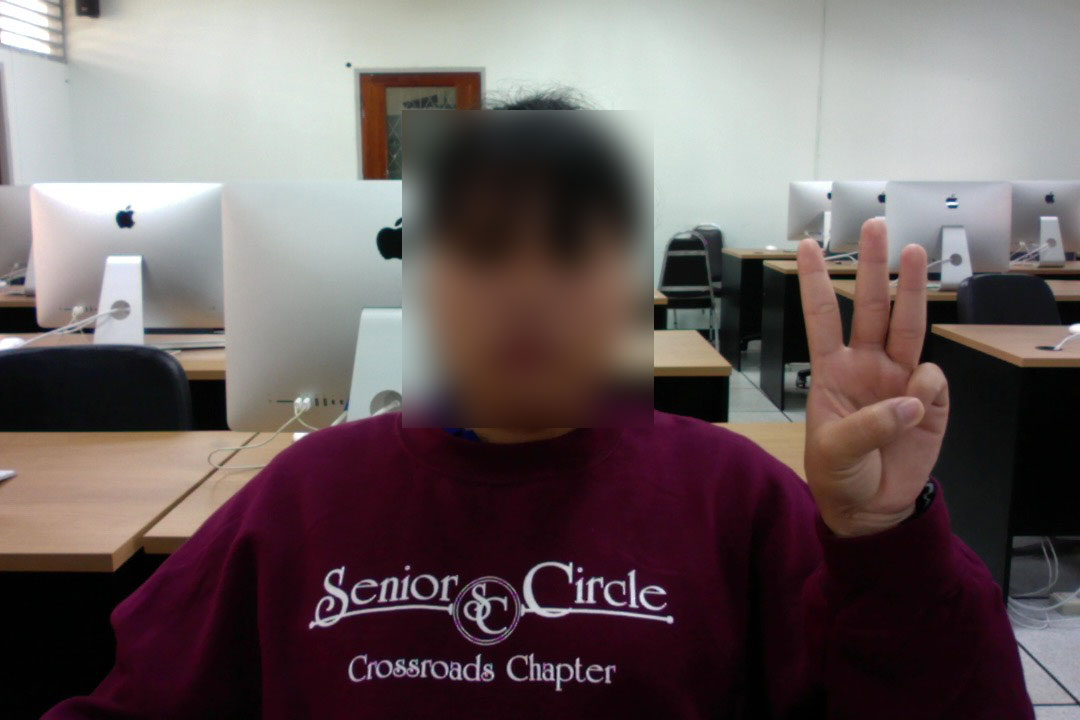wor: (784, 215, 959, 529)
